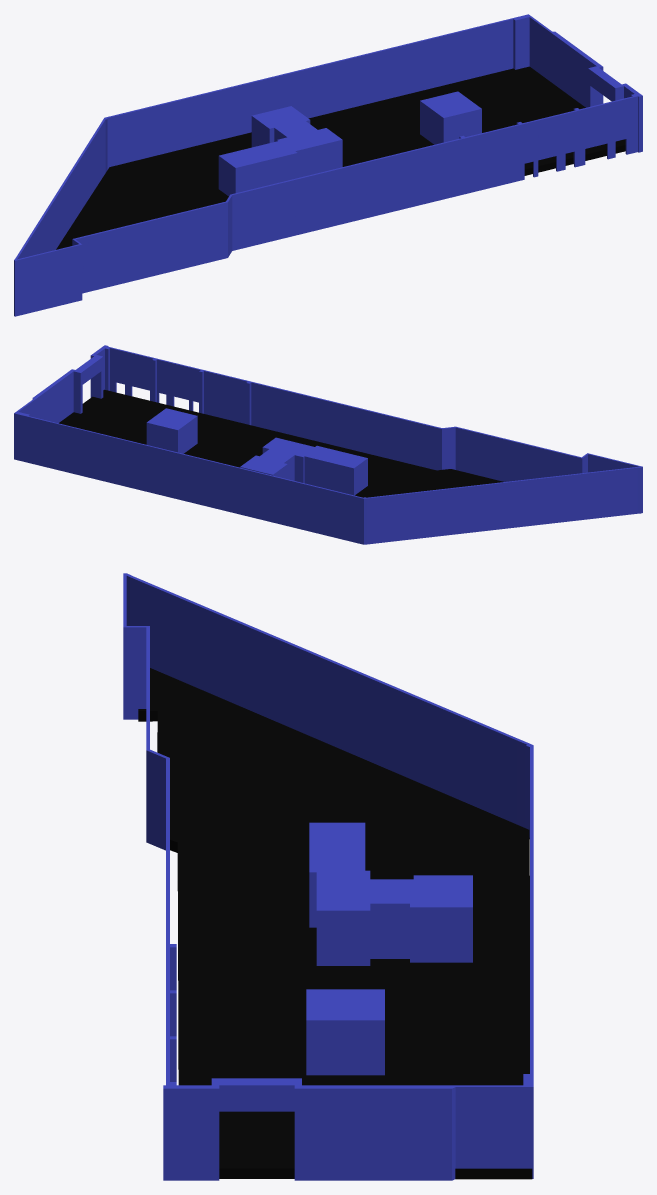
The model's file is OHLF_V3.glb.
The picture shows the model from 3 angles, top to bottom: view 1: azimuth 30°, elevation 25°; view 2: azimuth 150°, elevation 25°; view 3: azimuth 270°, elevation 25°; orthographic projection. The views are drawn at different scales.
Parts seen in each view (by area): view 1: node_id4, mesh_id47; view 2: node_id4, mesh_id47; view 3: mesh_id47, node_id4.
Boxes of the visible parts, x1=… form: node_id4: x1=14, y1=14, x2=642, y2=316; mesh_id47: x1=56, y1=66, x2=625, y2=249; node_id4: x1=14, y1=345, x2=642, y2=544; mesh_id47: x1=59, y1=389, x2=503, y2=497; mesh_id47: x1=138, y1=668, x2=532, y2=1179; node_id4: x1=123, y1=573, x2=533, y2=1180.
Bounding box in the file's own units: 0.512 × 0.0427 × 0.1723.
Materials: 2 (2 with a texture image).
